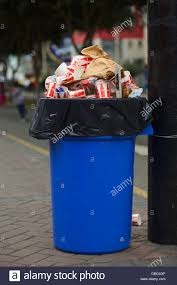Coca-Cola: (53, 87, 91, 97), (95, 84, 109, 97)
